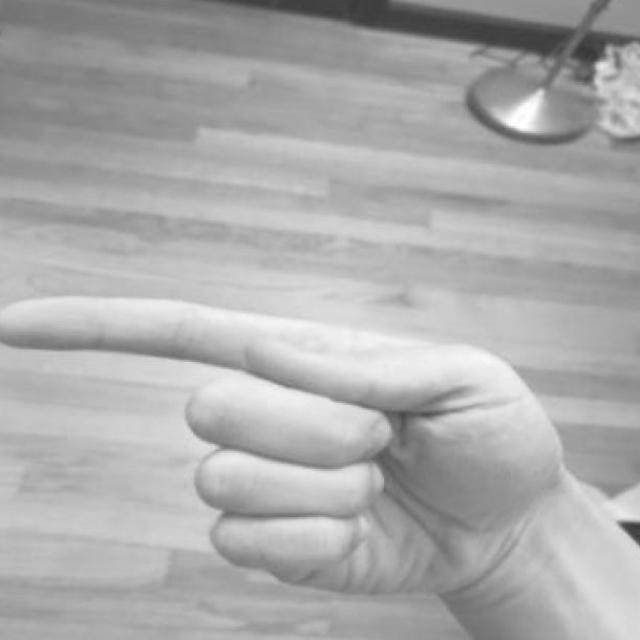G: (0, 274, 614, 611)
